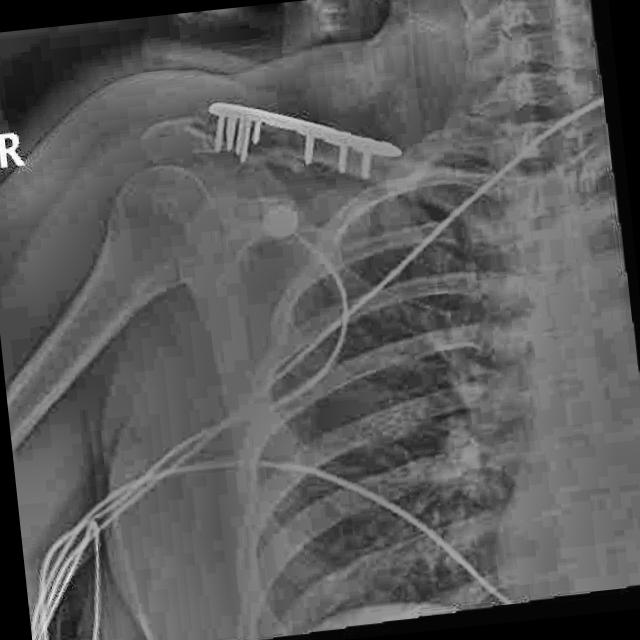shoulder fracture: (249, 126, 314, 182)
